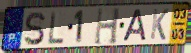1: (73, 9, 85, 45)
A: (122, 8, 148, 43)
H: (93, 7, 122, 46)
K: (149, 7, 170, 41)
L: (48, 10, 65, 46)
S: (23, 10, 46, 47)
